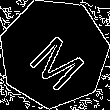M_NE: (20, 19, 88, 88)
